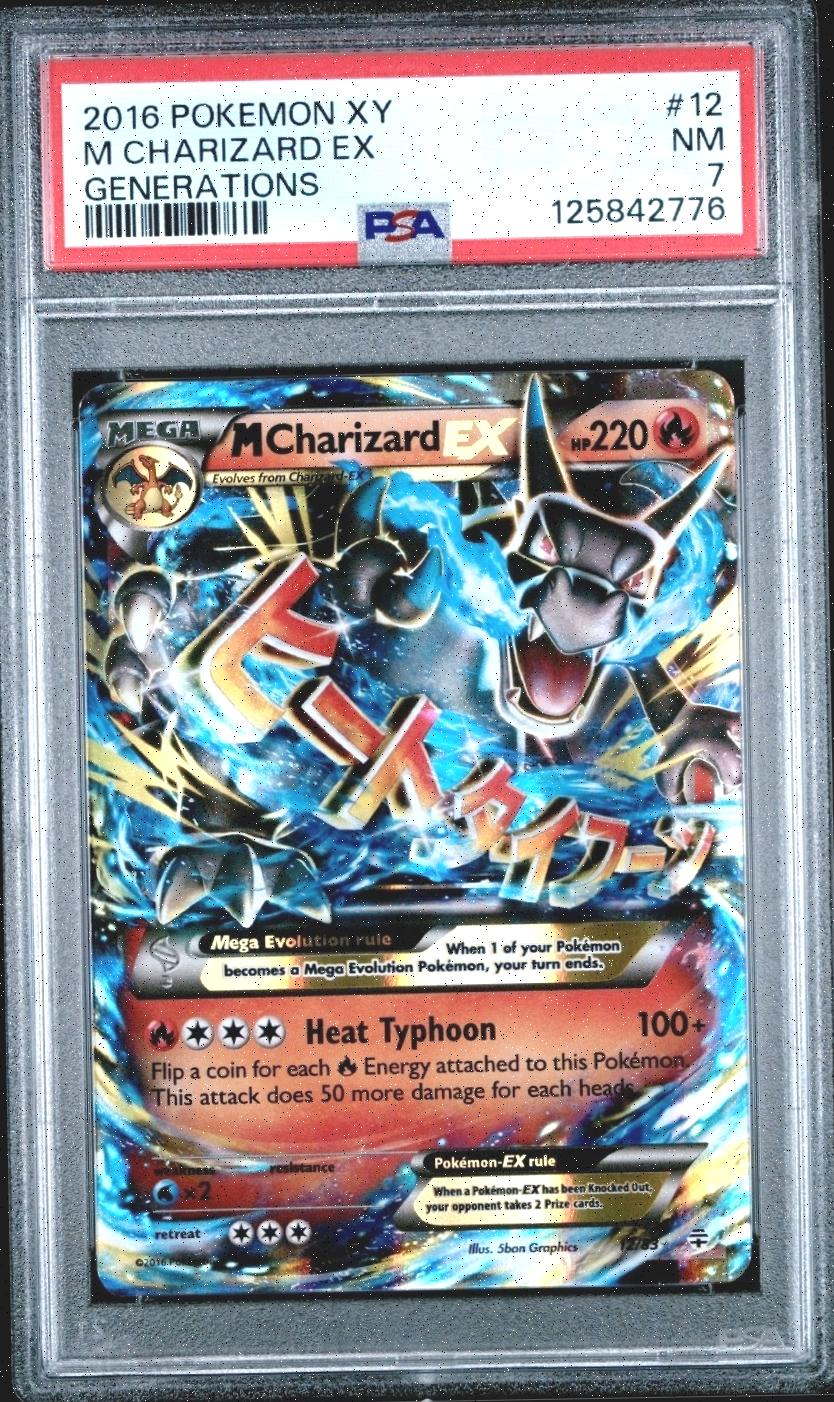card-2UtV: (78, 369, 753, 1298)
